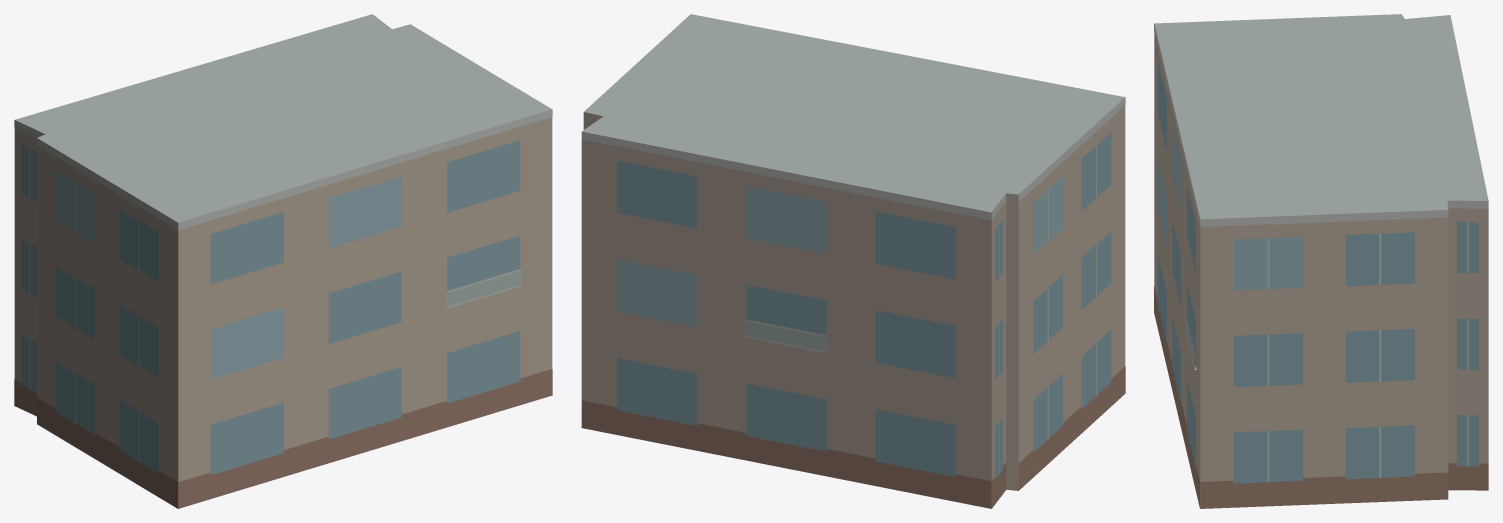
The model's file is survey-upis-32988132.glb.
3 views of the same model, side by side, from view 1: azimuth 30°, elevation 25°; view 2: azimuth 150°, elevation 25°; view 3: azimuth 270°, elevation 25° (orthographic). The views are drawn at different scales.
Visible parts, largest first — view 1: survey-upis-32988132.tmp; view 2: survey-upis-32988132.tmp; view 3: survey-upis-32988132.tmp.
Part boxes in pixels (x1,y1,x2,y2): survey-upis-32988132.tmp: (14, 14, 552, 508); survey-upis-32988132.tmp: (581, 14, 1125, 508); survey-upis-32988132.tmp: (1154, 14, 1488, 508).
Size of the model in its own units: 13.93 by 9.15 by 9.59.
